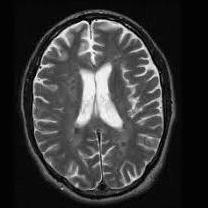Normal_Brain: (1, 2, 195, 208)
